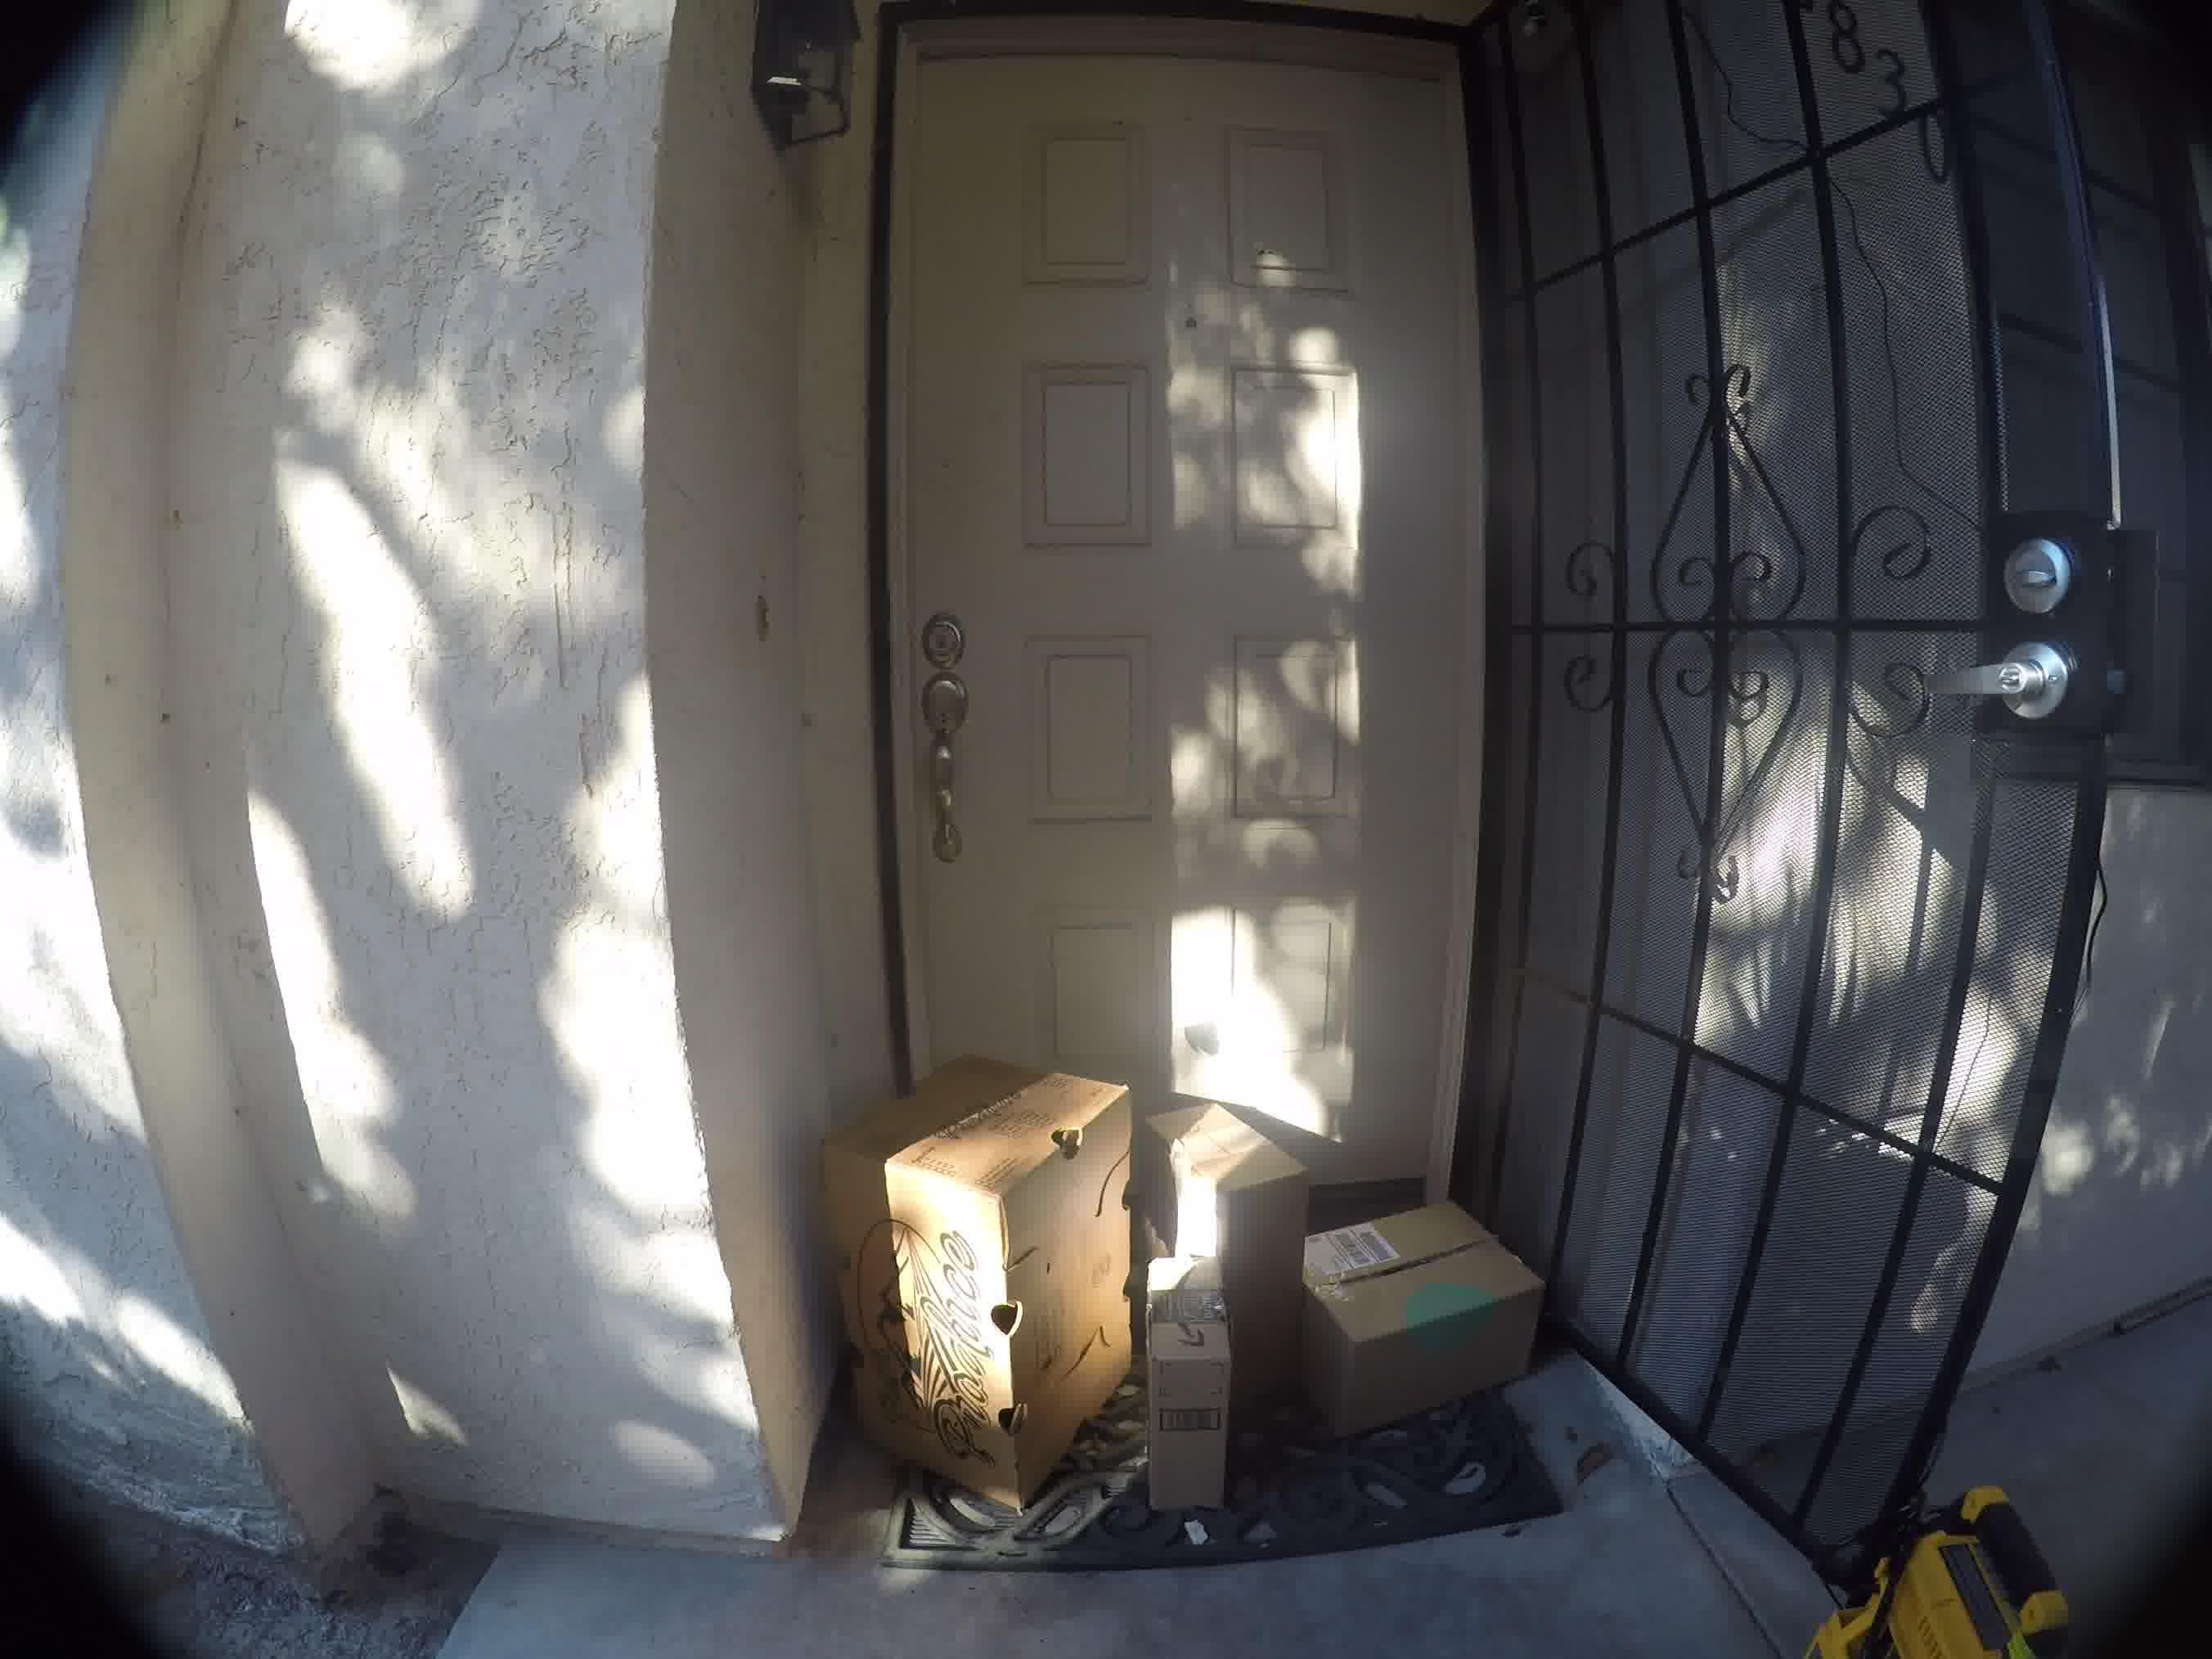box: (824, 1035, 1125, 1460), (1308, 1215, 1552, 1425), (1158, 1244, 1242, 1523), (1155, 1075, 1291, 1241)
